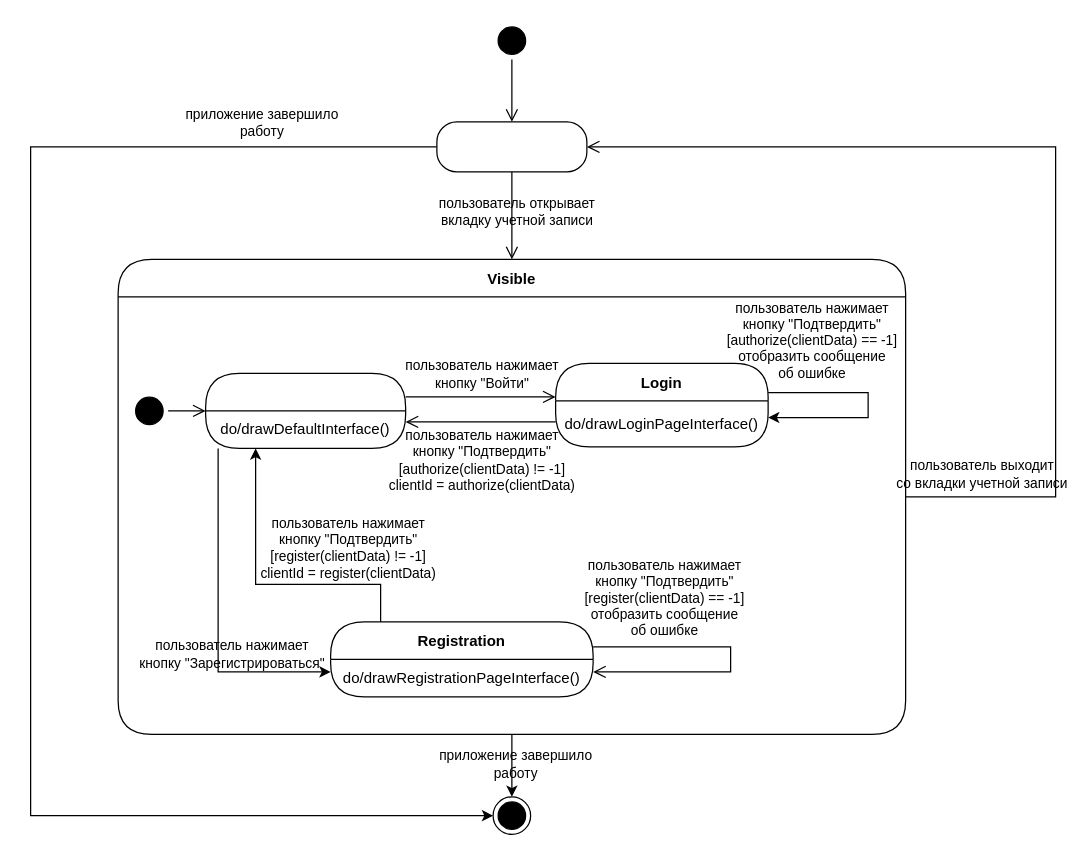
This 1090x856 diagram has some shape labels left out. The box of each missing label's shape, as (x1, y1, x2, y2) in pixels:
Idle: (204, 372, 406, 448)
Invisible: (436, 121, 587, 172)
